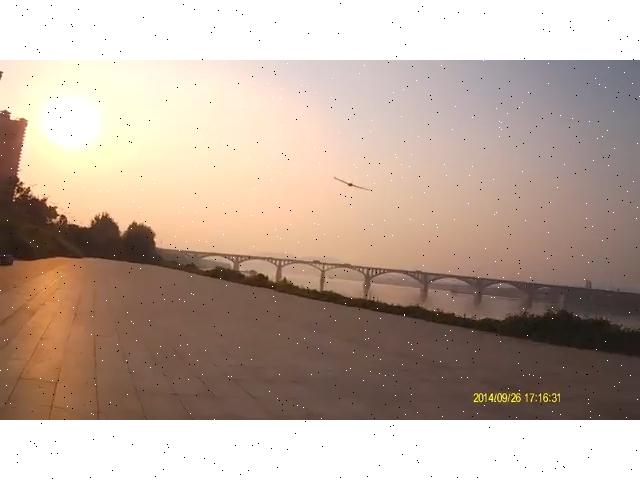Anti-Drone: (326, 166, 380, 200)
